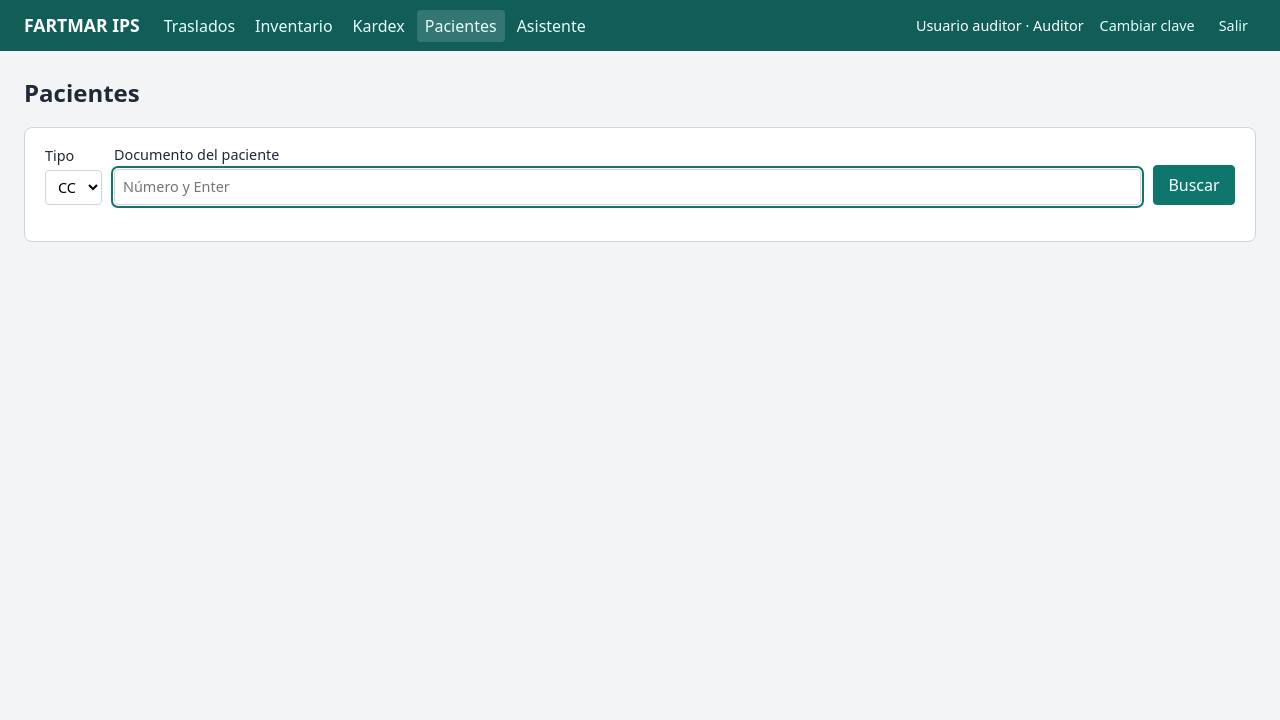
Pacientes para el auditor (enmascarado) › muestra los datos tal como llegan y tolera nulos
The image size is (1280, 720).
Type "9900000001" into the field labelled "Documento del paciente" at (628, 187), box [114, 169, 1141, 205]
Then press Enter
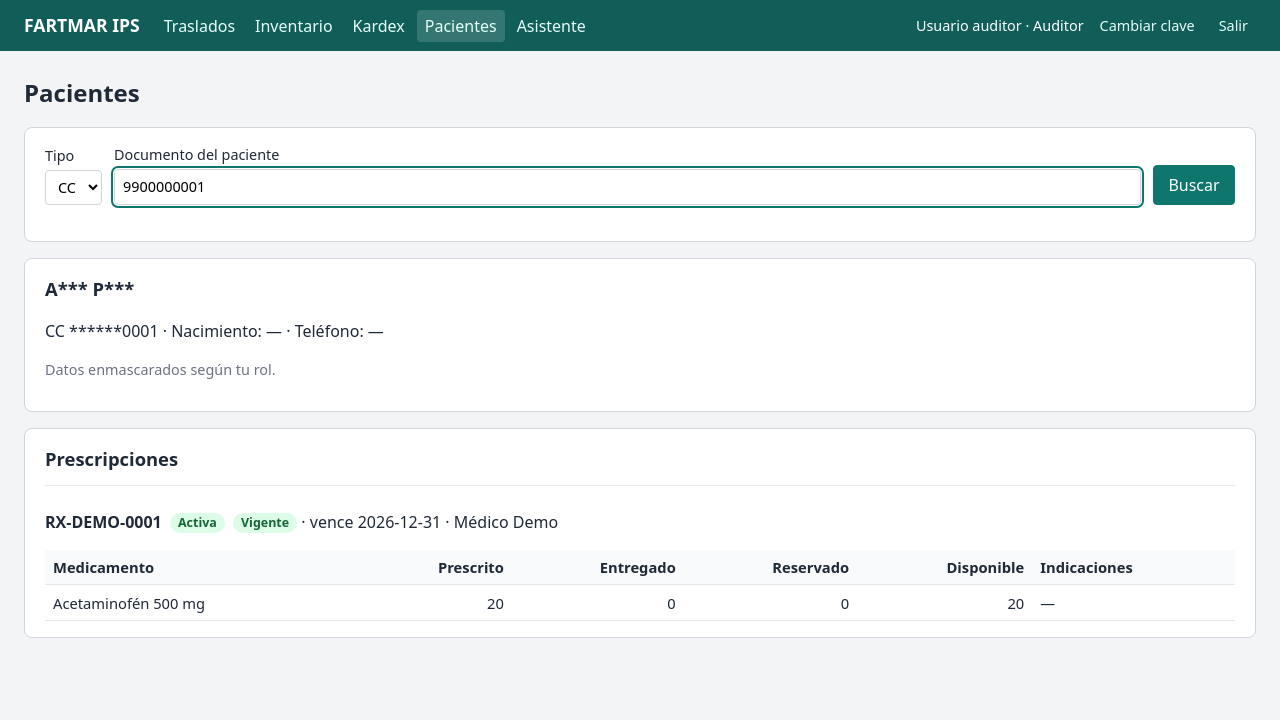
Expected: the heading "A*** P***" is shown, [45, 276, 134, 301]
Expected: the text "CC ******0001 · Nacimiento: — · Teléfono: —" is shown, [45, 320, 384, 342]
Expected: the text "Datos enmascarados según tu rol." is shown, [45, 360, 276, 379]
